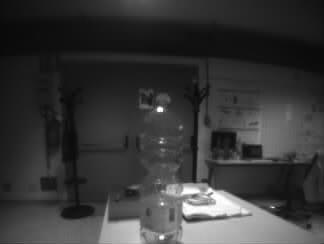Bottle: (141, 103, 182, 244)
